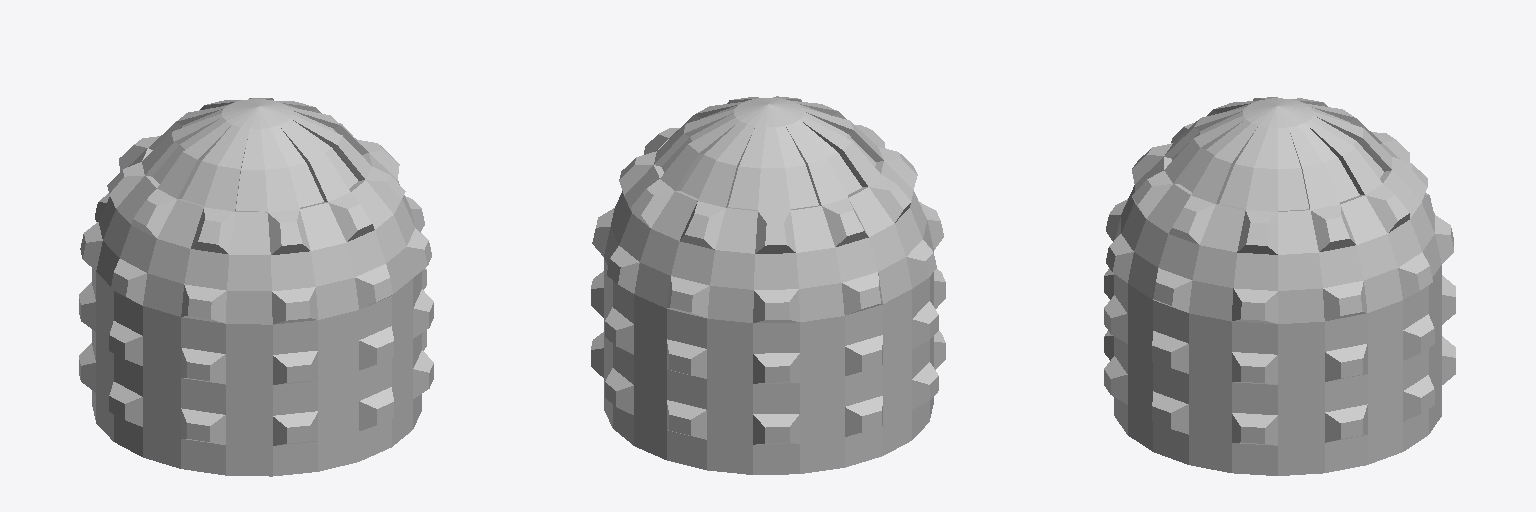
Rendered from building_dome.obj.
3 views of the same model, side by side, from view 1: azimuth 30°, elevation 25°; view 2: azimuth 150°, elevation 25°; view 3: azimuth 270°, elevation 25° (orthographic).
Visible parts, largest first — view 1: polySurface167; view 2: polySurface167; view 3: polySurface167.
Boxes of the visible parts, box(x1,y1,x2,y2) form: polySurface167: box(79, 98, 433, 476); polySurface167: box(591, 96, 945, 474); polySurface167: box(1104, 97, 1455, 475).
Bounding box in the file's own units: 403 × 375 × 399.